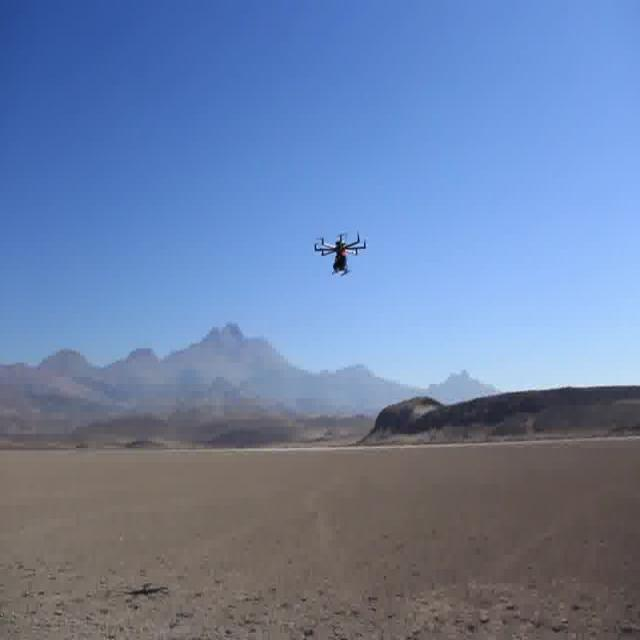drone: (310, 220, 373, 288)
